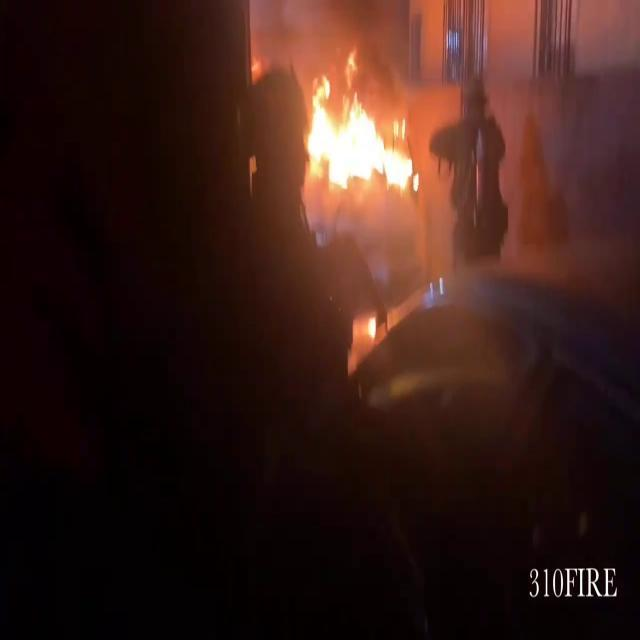Fire: (294, 69, 426, 203)
